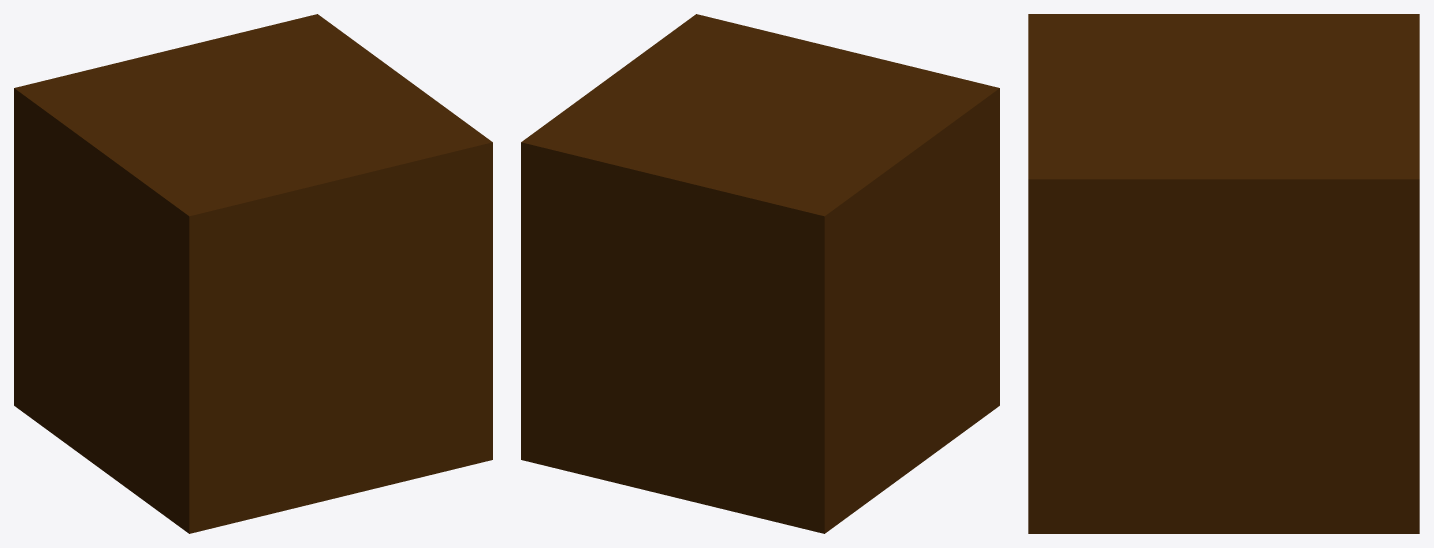
Rendered from MazeSoil.fbx.
The picture shows the model from 3 angles, left to right: view 1: azimuth 30°, elevation 25°; view 2: azimuth 150°, elevation 25°; view 3: azimuth 270°, elevation 25°; orthographic projection. The views are drawn at different scales.
Parts seen in each view (by area): view 1: Cube.002; view 2: Cube.002; view 3: Cube.002.
Part boxes in pixels (left/top/right/bottom): Cube.002: left=14, top=14, right=492, bottom=533; Cube.002: left=521, top=14, right=999, bottom=533; Cube.002: left=1028, top=14, right=1419, bottom=533.
Size of the model in its own units: 100 by 100 by 100.
